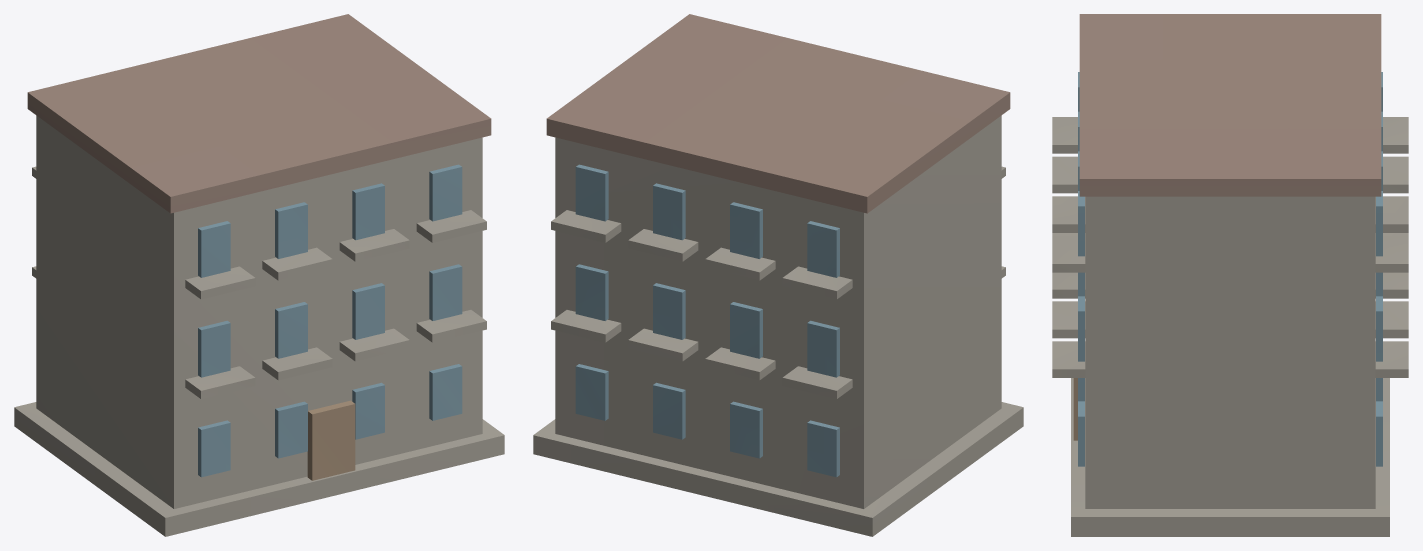
File: apartment-06.glb
The picture shows the model from 3 angles, left to right: view 1: azimuth 30°, elevation 25°; view 2: azimuth 150°, elevation 25°; view 3: azimuth 270°, elevation 25°; orthographic projection. The views are drawn at different scales.
Visible parts, largest first — view 1: world; view 2: world; view 3: world.
Boxes of the visible parts, <box> form: world: <box>14,14,504,536</box>; world: <box>533,14,1023,536</box>; world: <box>1052,14,1408,536</box>.
Bounding box in the file's own units: 1.5 × 1.41 × 1.29.
